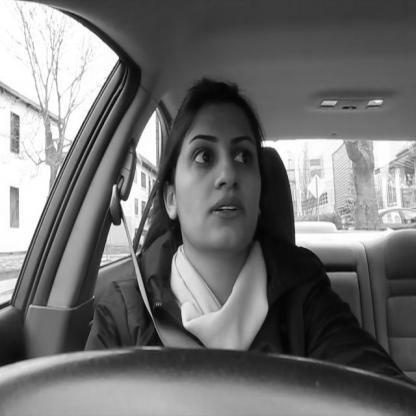seatbelt: (104, 72, 274, 349)
